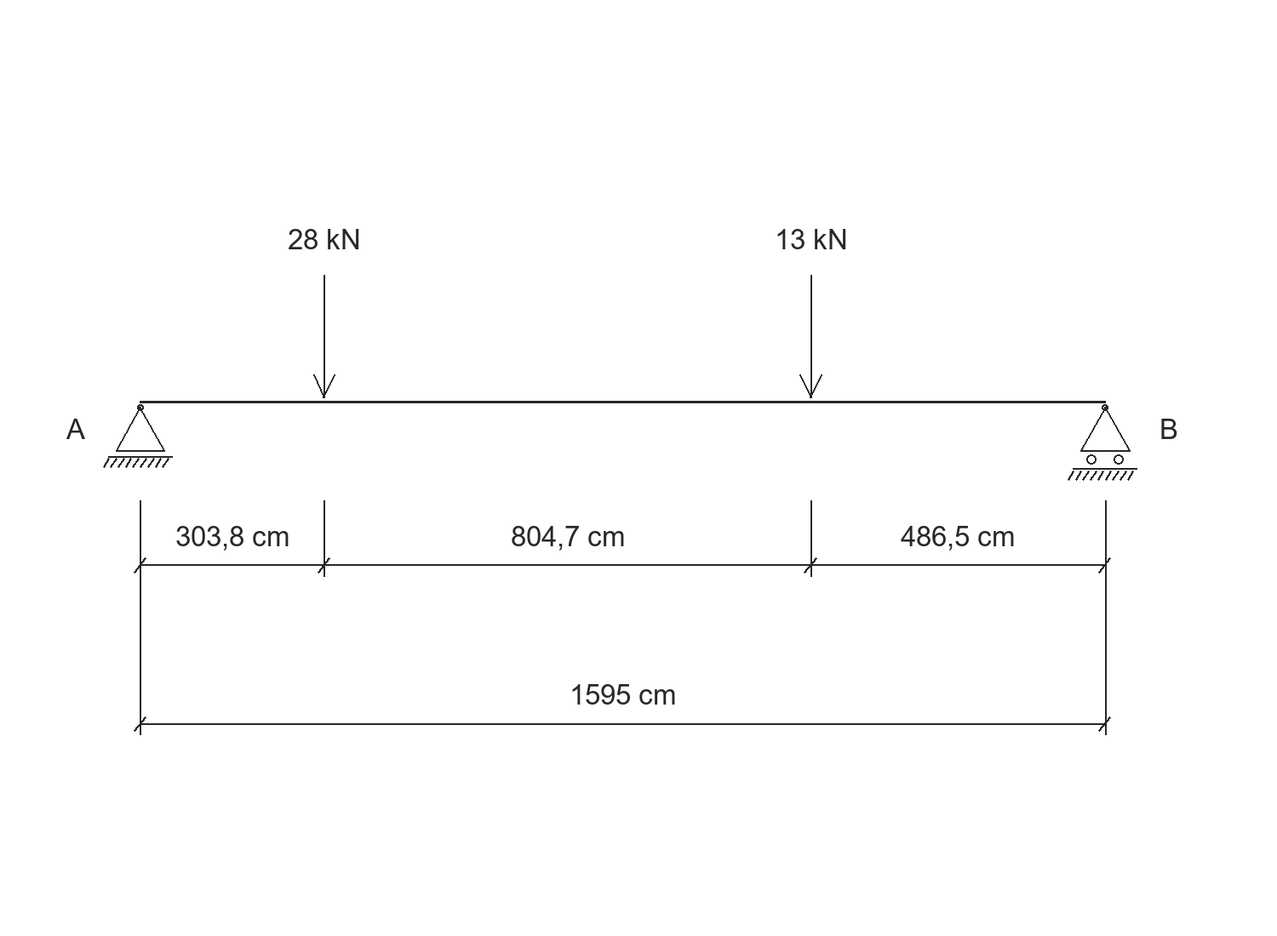pin_support: (103, 404, 173, 468)
point_load: (799, 275, 822, 398), (313, 275, 335, 398)
roller_support: (1068, 404, 1137, 481)
